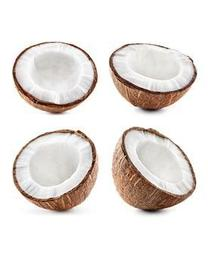coconut: (111, 127, 197, 211), (11, 129, 98, 212), (11, 42, 99, 115), (109, 42, 197, 112)
